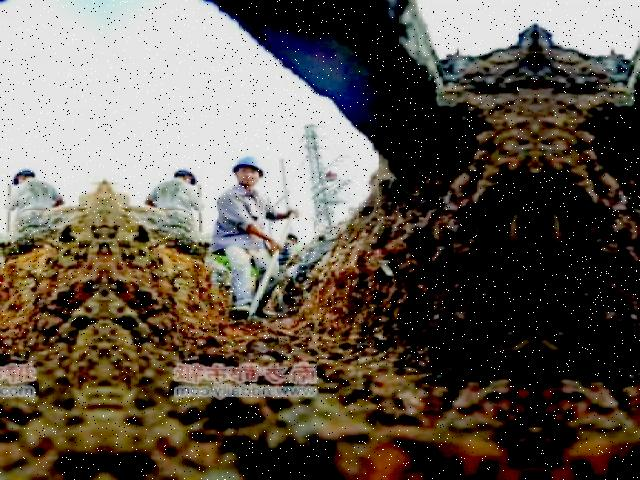Helmet: (230, 152, 269, 182)
